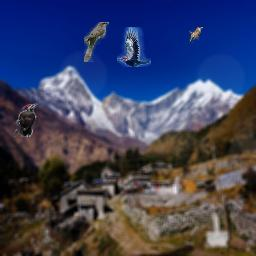Cuckoo: (84, 22, 109, 62), (189, 27, 203, 43)
Woodpecker: (117, 27, 151, 67), (14, 102, 42, 137)
